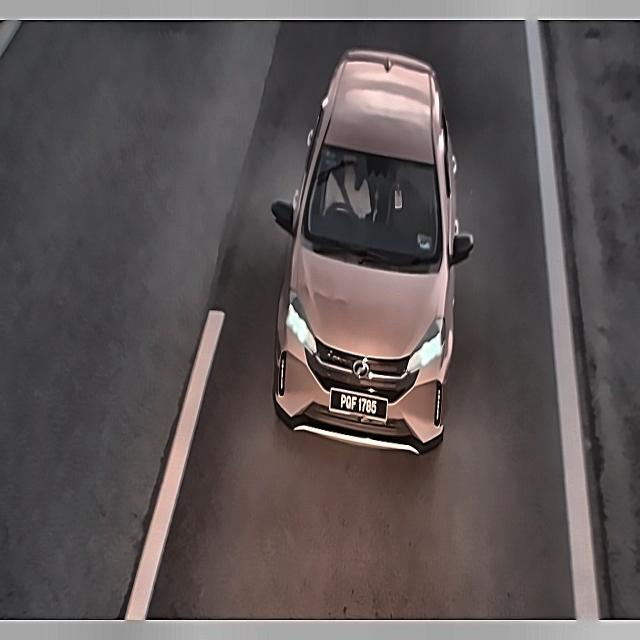car: (329, 386, 385, 419)
